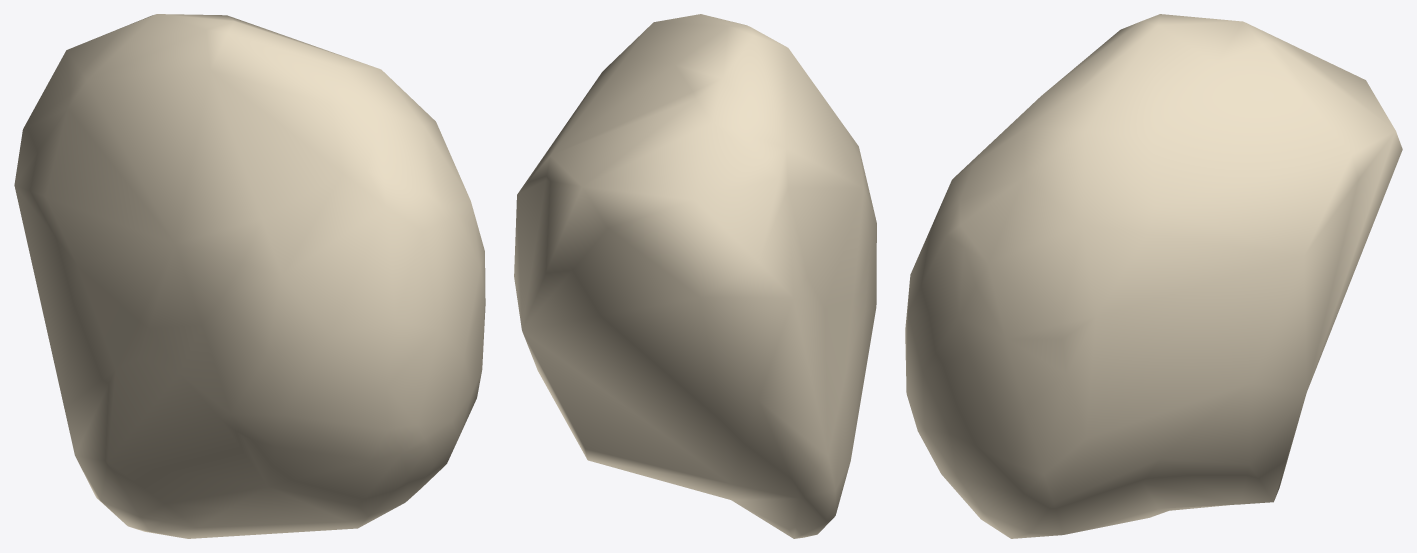
The model's file is pisiform-bone-l.glb.
3 renders of one model, left to right at view 1: azimuth 30°, elevation 25°; view 2: azimuth 150°, elevation 25°; view 3: azimuth 270°, elevation 25°, orthographic. The views are drawn at different scales.
Parts seen in each view (by area): view 1: Pisiform bone.l; view 2: Pisiform bone.l; view 3: Pisiform bone.l.
Part boxes in pixels (x1,y1,x2,y2): Pisiform bone.l: (14,14,485,538); Pisiform bone.l: (514,14,876,538); Pisiform bone.l: (905,14,1402,538).
Bounding box in the file's own units: 0.00874 × 0.0122 × 0.0108.
